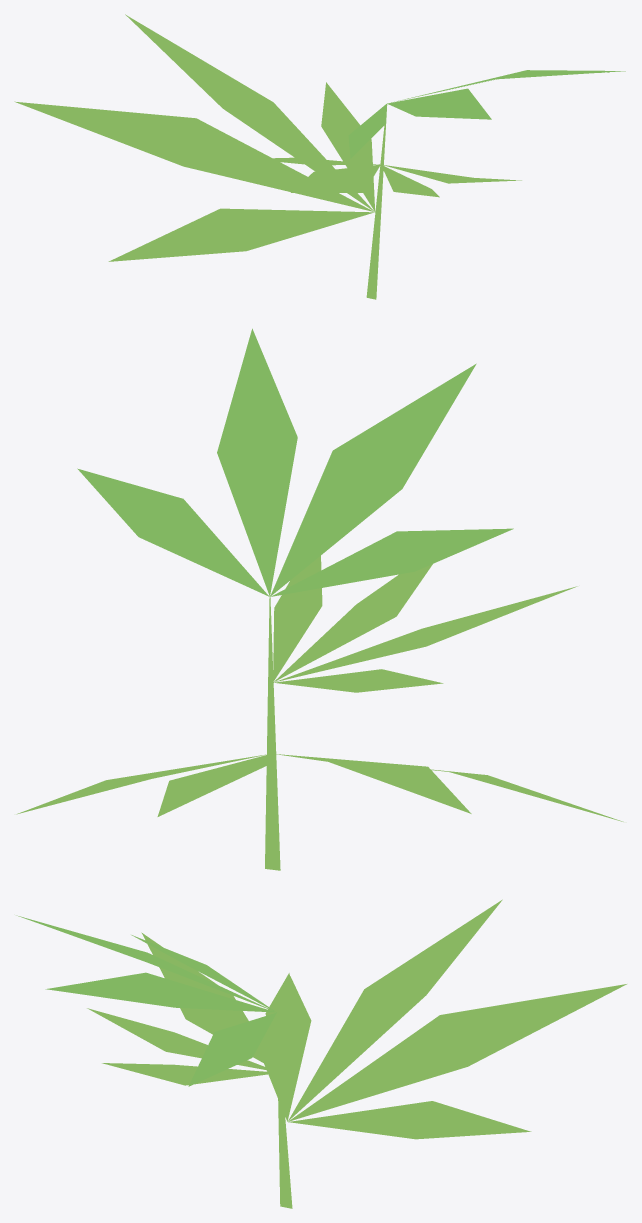
The model's file is Plant_i_OneS_10.fbx.
3 views of the same model, one above another, from view 1: azimuth 30°, elevation 25°; view 2: azimuth 150°, elevation 25°; view 3: azimuth 270°, elevation 25° (orthographic). The views are drawn at different scales.
Visible parts, largest first — view 1: Plant_i_OneS_10; view 2: Plant_i_OneS_10; view 3: Plant_i_OneS_10.
Boxes of the visible parts, box(x1,y1,x2,y2) form: Plant_i_OneS_10: box(14, 14, 625, 299); Plant_i_OneS_10: box(16, 328, 623, 870); Plant_i_OneS_10: box(16, 899, 626, 1208).
Size of the model in its own units: 0.2957 by 0.1725 by 0.3372.
